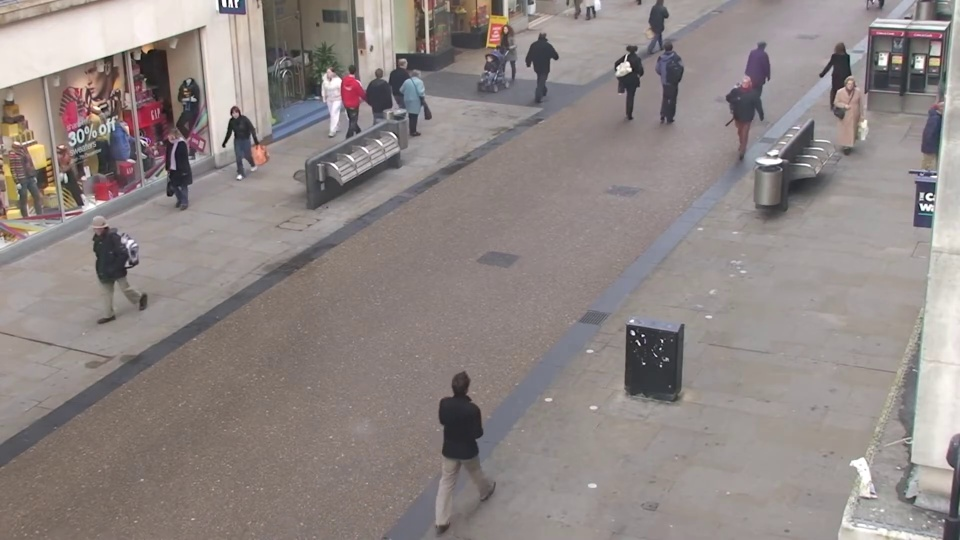pedestrian: (453, 352, 504, 507), (69, 212, 122, 331), (152, 127, 192, 224), (217, 104, 253, 195), (829, 75, 865, 161), (819, 40, 852, 119), (728, 75, 758, 160), (314, 68, 344, 149), (370, 61, 400, 141), (407, 64, 436, 145), (342, 60, 371, 139), (394, 55, 422, 133), (472, 53, 500, 131), (748, 36, 777, 111), (621, 40, 647, 116), (657, 38, 683, 113), (489, 25, 514, 95), (534, 25, 558, 96)
